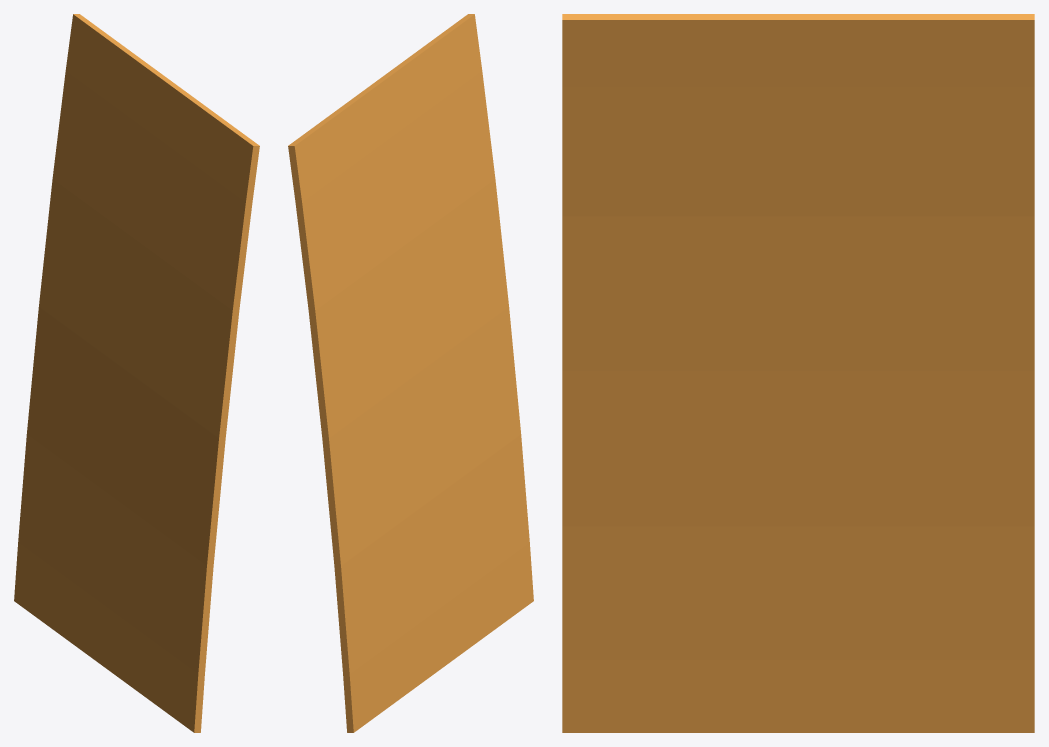
File: back-splash-four.glb
The picture shows the model from 3 angles, left to right: view 1: azimuth 30°, elevation 25°; view 2: azimuth 150°, elevation 25°; view 3: azimuth 270°, elevation 25°; orthographic projection. The views are drawn at different scales.
Parts seen in each view (by area): view 1: Cube; view 2: Cube; view 3: Cube.
Boxes of the visible parts, <box> form: Cube: <box>14,14,259,732</box>; Cube: <box>288,14,533,732</box>; Cube: <box>562,14,1034,732</box>.
Size of the model in its own units: 0.077 by 0.6427 by 0.3657.
